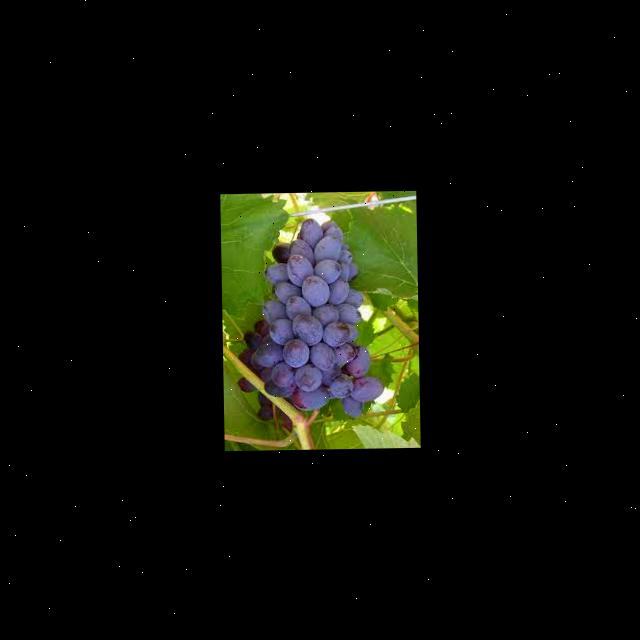grape: (234, 216, 384, 427)
